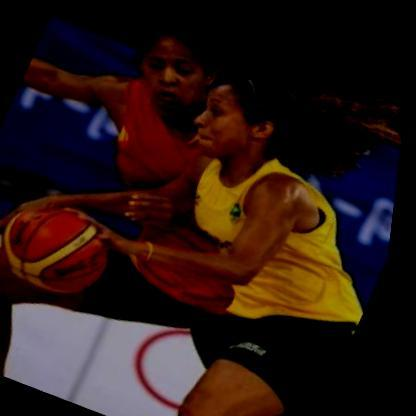basketball: (0, 180, 135, 316)
